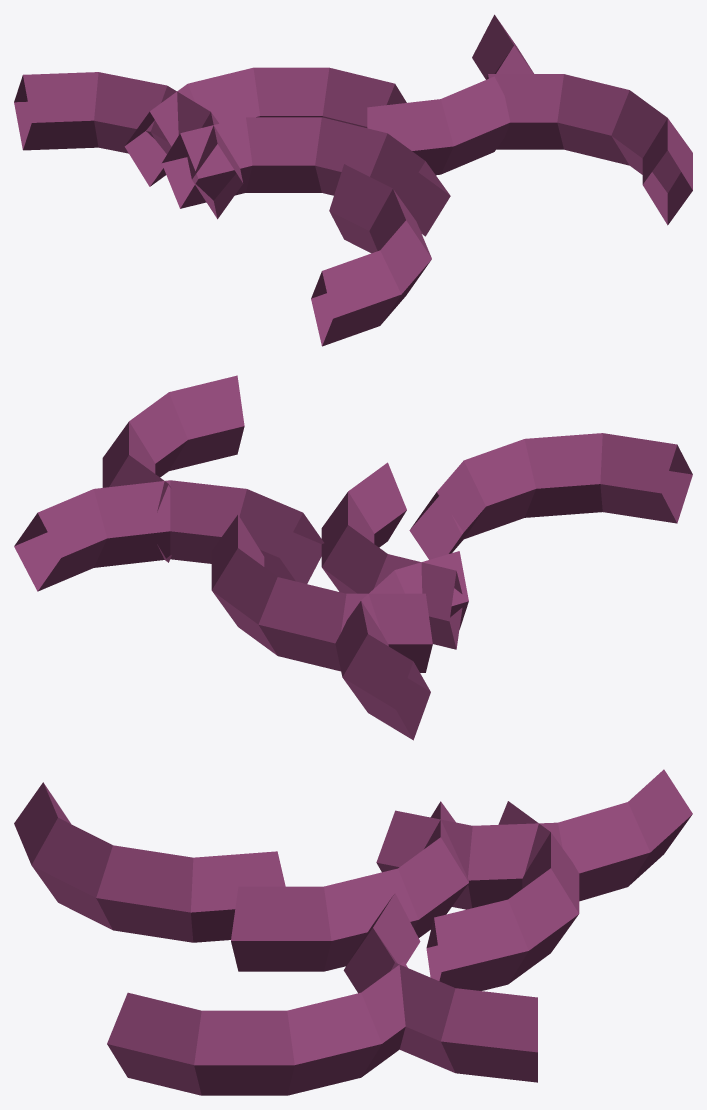
Rendered from onion_pieces.glb.
The picture shows the model from 3 angles, top to bottom: view 1: azimuth 30°, elevation 25°; view 2: azimuth 150°, elevation 25°; view 3: azimuth 270°, elevation 25°; orthographic projection. The views are drawn at different scales.
Parts seen in each view (by area): view 1: onion_pieces_2, onion_pieces_3, onion_pieces_0, onion_pieces_5, onion_pieces_4, onion_pieces_1; view 2: onion_pieces_1, onion_pieces_5, onion_pieces_4, onion_pieces_3, onion_pieces_2, onion_pieces_0; view 3: onion_pieces_3, onion_pieces_5, onion_pieces_0, onion_pieces_2, onion_pieces_1, onion_pieces_4.
Part boxes in pixels (x1=…): onion_pieces_2: x1=161, y1=117, x2=450, y2=236; onion_pieces_3: x1=486, y1=74, x2=692, y2=225; onion_pieces_0: x1=14, y1=72, x2=243, y2=219; onion_pieces_5: x1=311, y1=164, x2=431, y2=346; onion_pieces_4: x1=124, y1=67, x2=406, y2=186; onion_pieces_1: x1=367, y1=14, x2=533, y2=175; onion_pieces_1: x1=14, y1=480, x2=323, y2=591; onion_pieces_5: x1=409, y1=433, x2=692, y2=559; onion_pieces_4: x1=211, y1=515, x2=432, y2=672; onion_pieces_3: x1=102, y1=375, x2=244, y2=562; onion_pieces_2: x1=321, y1=462, x2=462, y2=649; onion_pieces_0: x1=335, y1=551, x2=468, y2=740; onion_pieces_3: x1=107, y1=961, x2=407, y2=1095; onion_pieces_5: x1=14, y1=782, x2=285, y2=942; onion_pieces_0: x1=376, y1=769, x2=692, y2=909; onion_pieces_2: x1=231, y1=801, x2=468, y2=971; onion_pieces_1: x1=343, y1=893, x2=537, y2=1082; onion_pieces_4: x1=426, y1=801, x2=579, y2=990.
Size of the model in its own units: 0.1648 by 0.0256 by 0.185.
